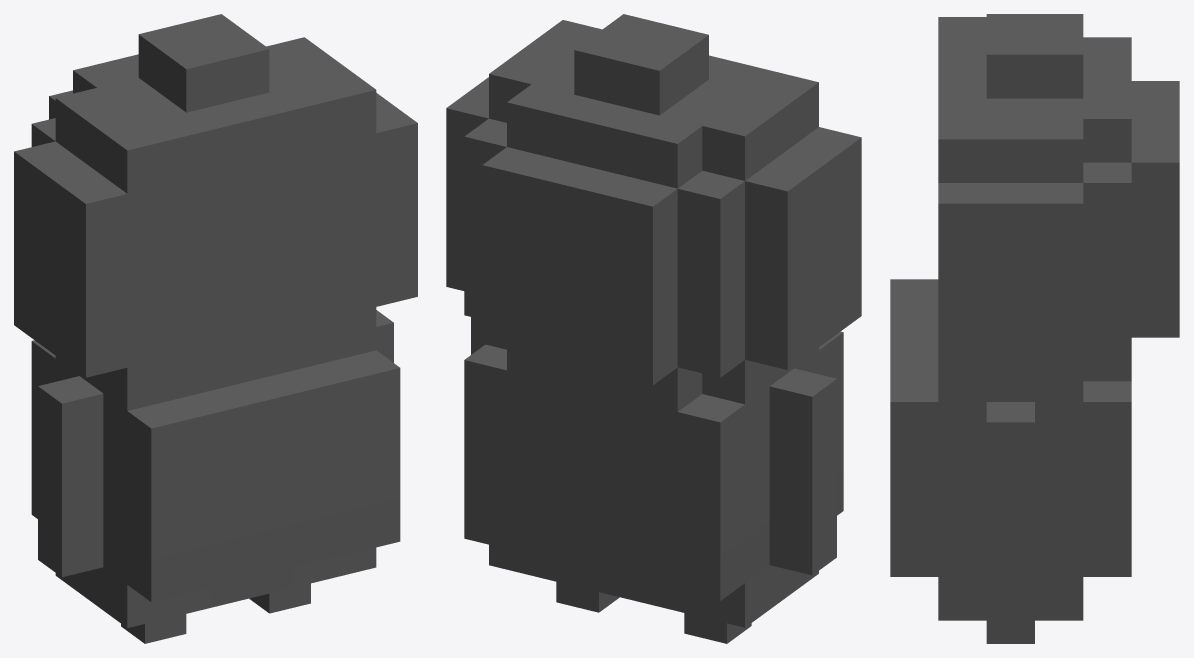
Rendered from chr_sumo1.obj.
3 views of the same model, side by side, from view 1: azimuth 30°, elevation 25°; view 2: azimuth 150°, elevation 25°; view 3: azimuth 270°, elevation 25° (orthographic). The views are drawn at different scales.
Size of the model in its own units: 8 by 13 by 6.
